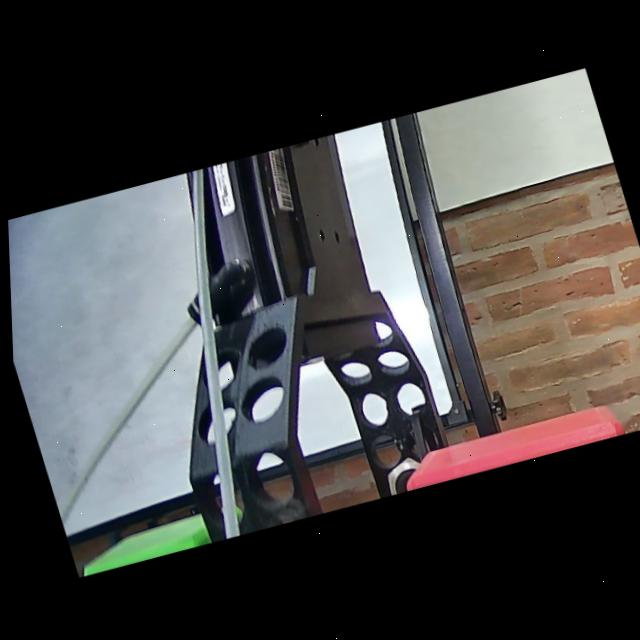greenBox: (64, 493, 252, 578)
redBox: (379, 388, 626, 494)
